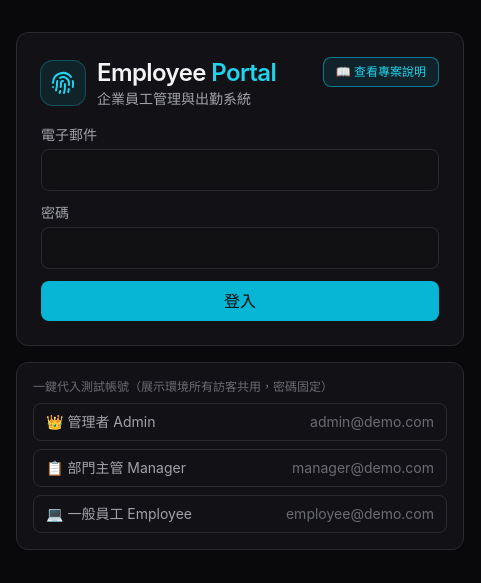
Test: 登入失敗時顯示後端回傳的錯誤訊息
Click the button "👑 管理者 Admin admin@demo.com": [111, 422] box 33,403 -> 447,441
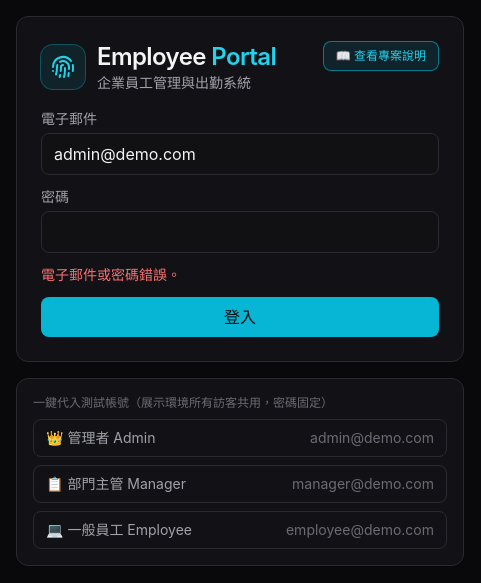
Now the text "電子郵件或密碼錯誤。" is shown, box 41,266 -> 181,283
